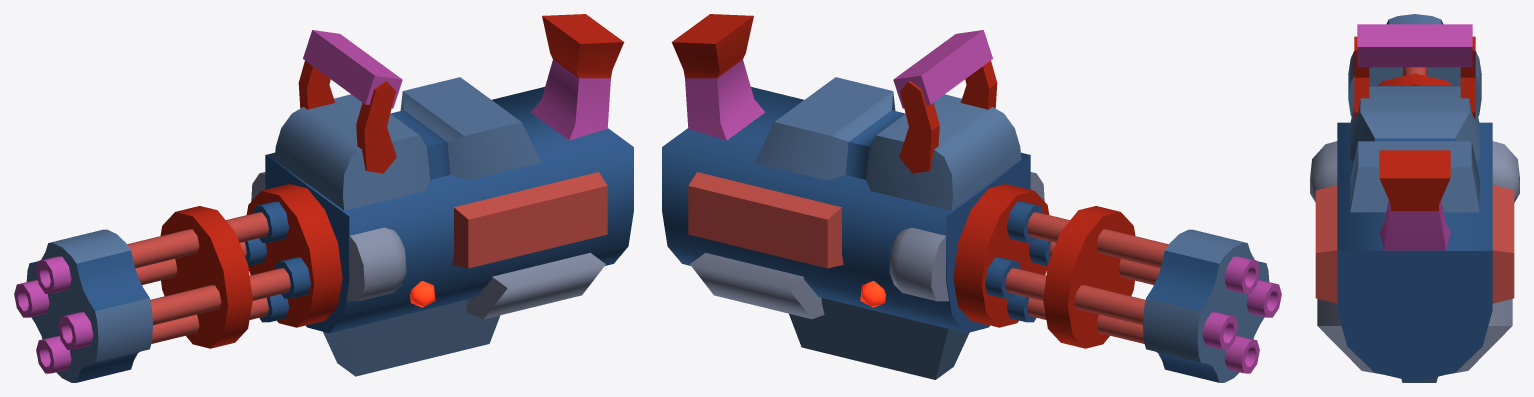
File: pulemet_LP (1).fbx
The picture shows the model from 3 angles, left to right: view 1: azimuth 30°, elevation 25°; view 2: azimuth 150°, elevation 25°; view 3: azimuth 270°, elevation 25°; orthographic projection. The views are drawn at different scales.
Visible parts, largest first — view 1: Cube, Cube.002, wTube.005, Cube.006, Cube.004, wTube.003, Cube.001, wTube.002, wTube, Cube.005, wTube.006, Sphere (+4 smaller); view 2: Cube, Cube.002, wTube.005, Cube.006, Cube.001, Cube.004, wTube.003, wTube.002, wTube, Cube.005, wTube.006, Sphere (+4 smaller); view 3: Cube, Cube.002, Cube.004, Cube.006, Cube.007, Cube.005, Sphere, wTube.005, Cube.003, wTube.003, wTube.002.
Part boxes in pixels (left/top/right/bottom): Cube: left=265, top=87, right=633, bottom=333; Cube.002: left=274, top=77, right=541, bottom=210; wTube.005: left=26, top=229, right=152, bottom=382; Cube.006: left=452, top=172, right=607, bottom=268; Cube.004: left=530, top=14, right=624, bottom=140; wTube.003: left=160, top=206, right=252, bottom=348; Cube.001: left=323, top=299, right=500, bottom=376; wTube.002: left=127, top=212, right=290, bottom=343; wTube: left=246, top=184, right=342, bottom=327; Cube.005: left=466, top=252, right=605, bottom=319; wTube.006: left=14, top=256, right=93, bottom=373; Sphere: left=251, top=172, right=406, bottom=301; Cube: left=662, top=87, right=1030, bottom=333; Cube.002: left=754, top=77, right=1021, bottom=210; wTube.005: left=1143, top=229, right=1269, bottom=382; Cube.006: left=688, top=172, right=843, bottom=268; Cube.001: left=789, top=298, right=969, bottom=379; Cube.004: left=671, top=14, right=765, bottom=140; wTube.003: left=1043, top=206, right=1135, bottom=348; wTube.002: left=1005, top=212, right=1168, bottom=343; wTube: left=953, top=184, right=1049, bottom=327; Cube.005: left=690, top=252, right=824, bottom=319; wTube.006: left=1202, top=256, right=1281, bottom=373; Sphere: left=889, top=172, right=1044, bottom=301; Cube: left=1337, top=122, right=1492, bottom=381; Cube.002: left=1350, top=85, right=1479, bottom=212; Cube.004: left=1379, top=150, right=1450, bottom=250; Cube.006: left=1315, top=185, right=1514, bottom=303; Cube.007: left=1357, top=24, right=1472, bottom=67; Cube.005: left=1317, top=299, right=1512, bottom=374; Sphere: left=1310, top=141, right=1519, bottom=202; wTube.005: left=1348, top=14, right=1481, bottom=116; Cube.003: left=1354, top=36, right=1475, bottom=118; wTube.003: left=1378, top=73, right=1451, bottom=85; wTube.002: left=1402, top=67, right=1427, bottom=75.
Bounding box in the file's own units: 679 × 371 × 239.
